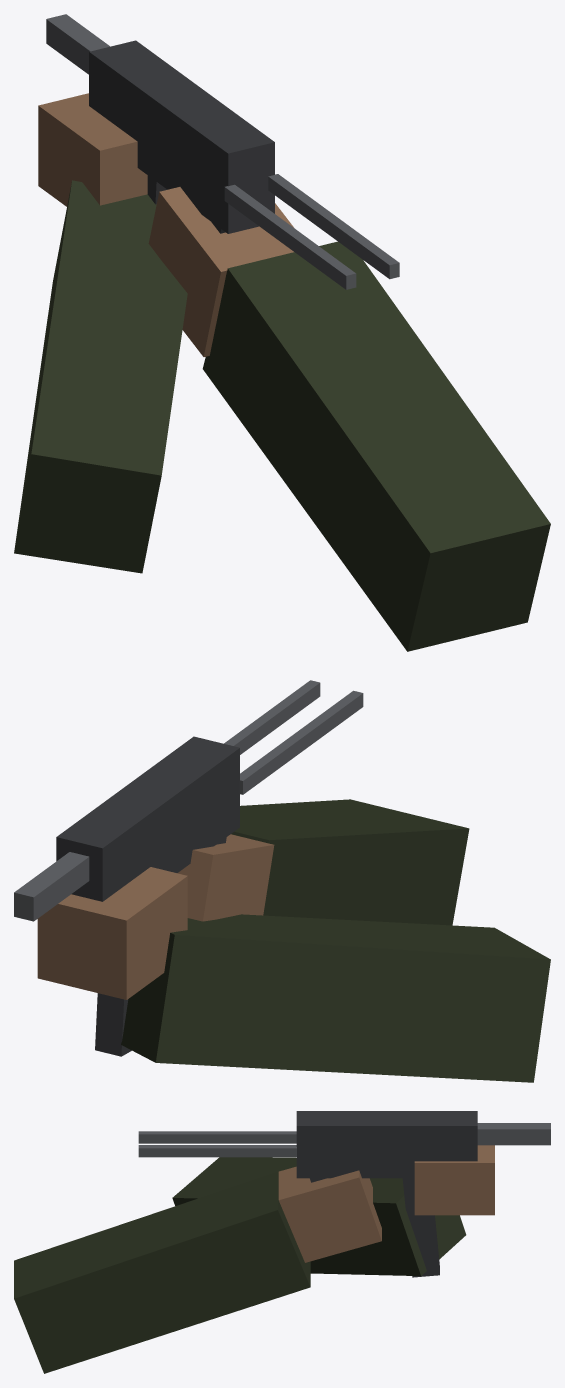
Rendered from smg.glb.
The picture shows the model from 3 angles, top to bottom: view 1: azimuth 30°, elevation 25°; view 2: azimuth 150°, elevation 25°; view 3: azimuth 270°, elevation 25°; orthographic projection. The views are drawn at different scales.
Parts seen in each view (by area): view 1: smg_3, smg_0, smg_2, smg_1; view 2: smg_3, smg_2, smg_0, smg_1; view 3: smg_3, smg_0, smg_2, smg_1.
Part boxes in pixels (left/top/right/bottom): smg_3: left=14, top=180, right=550, bottom=651; smg_0: left=89, top=40, right=274, bottom=233; smg_2: left=38, top=93, right=293, bottom=356; smg_1: left=46, top=14, right=399, bottom=289; smg_3: left=121, top=799, right=550, bottom=1082; smg_2: left=37, top=834, right=274, bottom=999; smg_0: left=56, top=736, right=239, bottom=1056; smg_1: left=14, top=680, right=363, bottom=921; smg_3: left=14, top=1157, right=466, bottom=1373; smg_0: left=296, top=1111, right=477, bottom=1277; smg_2: left=278, top=1145, right=494, bottom=1262; smg_1: left=138, top=1123, right=550, bottom=1157.
Size of the model in its own units: 0.4821 by 0.4496 by 0.9539.
